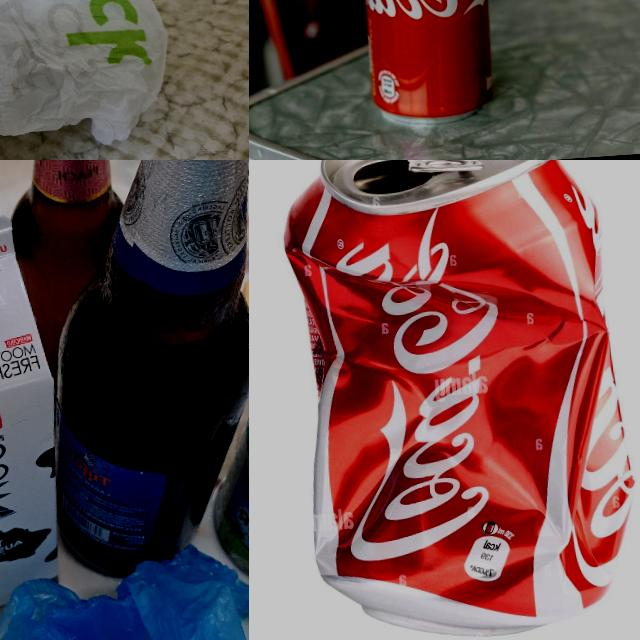aba de lata: (404, 160, 484, 174)
caixinha: (0, 204, 73, 639), (223, 268, 249, 393)
garrafa de vidro: (36, 160, 249, 578), (0, 160, 135, 386)
lata: (275, 160, 640, 640), (352, 0, 501, 128), (200, 354, 249, 589)
sacola plástica: (0, 0, 185, 160), (0, 537, 249, 640)
